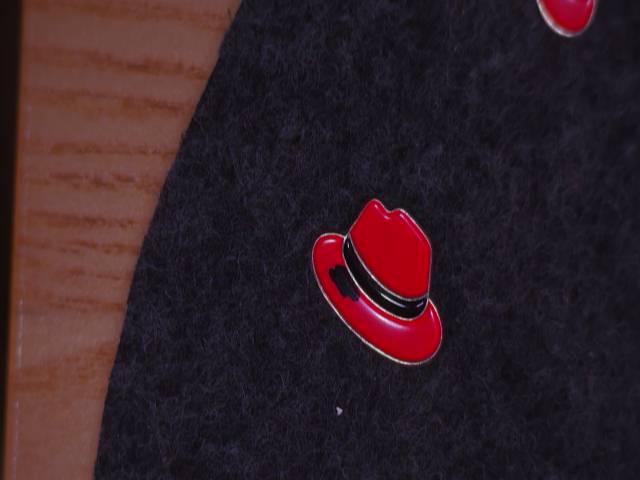Red-Hat: (281, 187, 464, 382)
Scratch: (322, 252, 375, 309)
